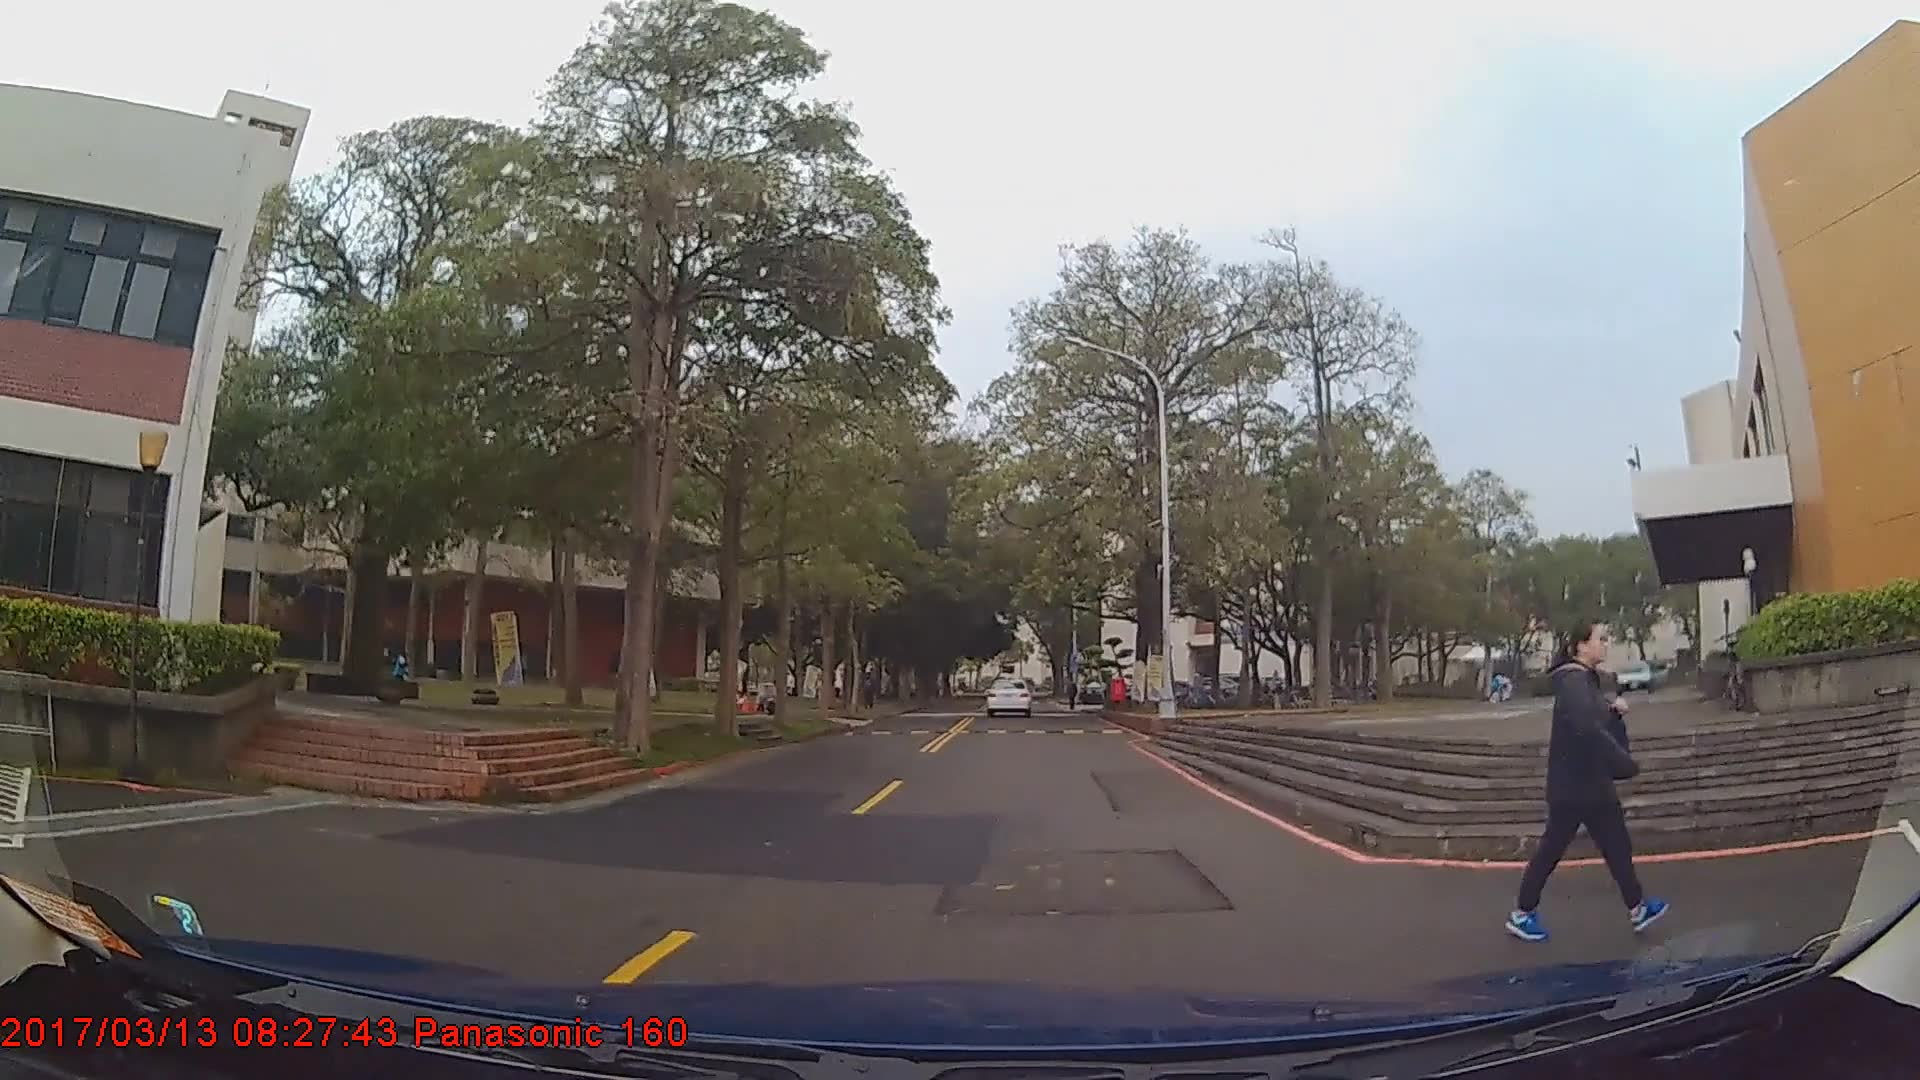pedestrian: (1501, 620, 1662, 950)
vehicle: (1610, 659, 1669, 696), (985, 674, 1033, 717)
